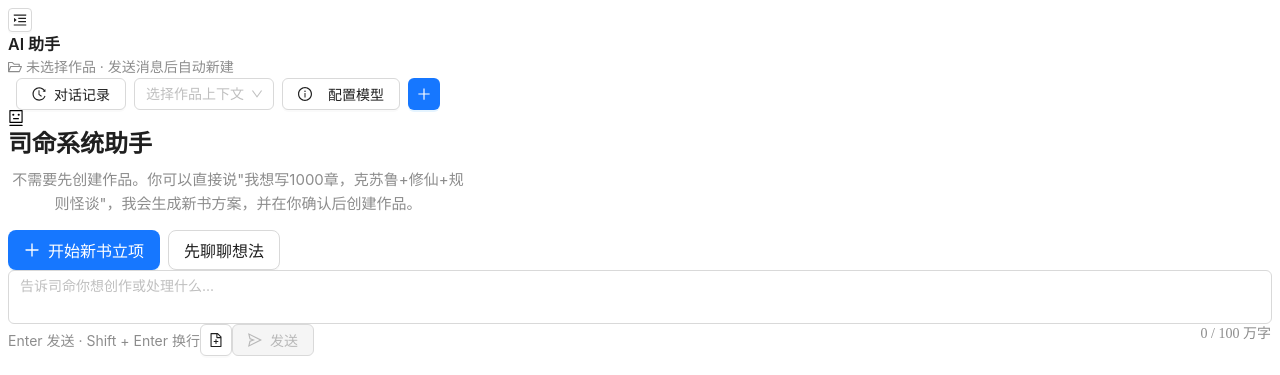
GuiAssistantChat new-book handoff › starts new-book input without navigating back to the same assistant or sending it
Click the button "开始新书立项".
click(84, 250)  # box [8,230,160,270]
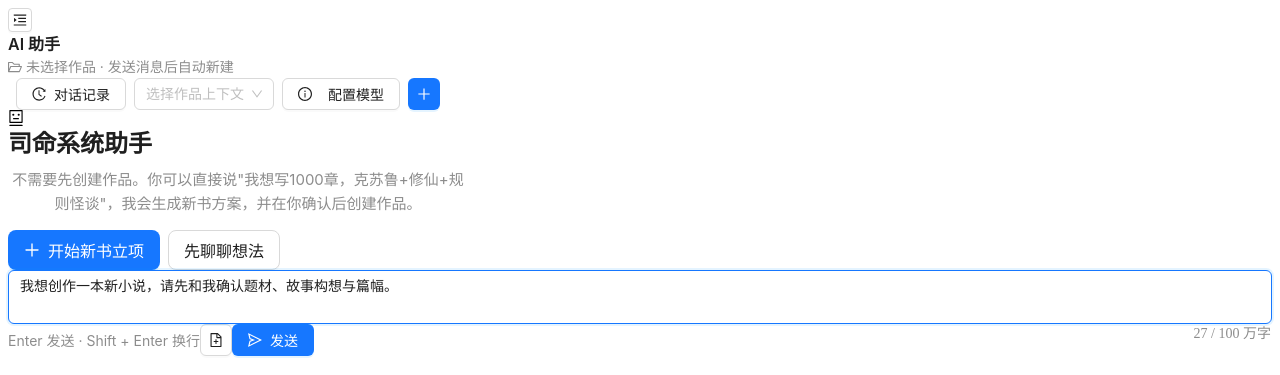
Expected: the text box named "给司命的消息" holds "我想创作一本新小说，请先和我确认题材、故事构想与篇幅。", [9,271,1271,323]
